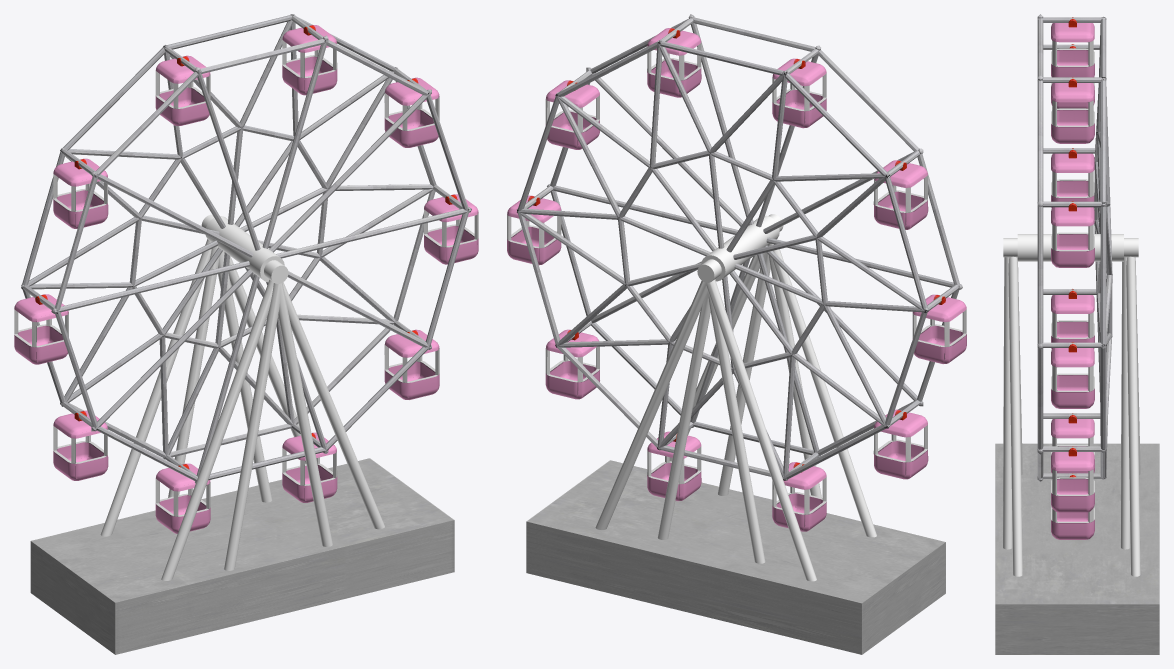
Rendered from Ferris_new.fbx.
3 views of the same model, side by side, from view 1: azimuth 30°, elevation 25°; view 2: azimuth 150°, elevation 25°; view 3: azimuth 270°, elevation 25° (orthographic). The views are drawn at different scales.
Visible parts, largest first — view 1: Wheel, Stand, Carridge, pasted__pasted__pCylinder3, pasted__pasted__pasted__pasted__pCylinder3, pasted__pCylinder3 (×2), pasted__pasted__pasted__pCylinder3; view 2: Stand, Wheel, Carridge, pasted__pCylinder3 (×2), pasted__pasted__pasted__pCylinder3, pasted__pasted__pCylinder3, pasted__pasted__pasted__pasted__pCylinder3; view 3: Stand, Carridge, Wheel, pasted__pCylinder3 (×2), pasted__pasted__pCylinder3, pasted__pasted__pasted__pasted__pCylinder3, pasted__pasted__pasted__pCylinder3, pCylinder3.
Part boxes in pixels (<box>): Wheel: <box>21,14,471,483</box>; Stand: <box>30,458,454,654</box>; Carridge: <box>14,25,478,533</box>; pasted__pasted__pCylinder3: <box>161,279,384,580</box>; pasted__pasted__pasted__pasted__pCylinder3: <box>224,283,332,570</box>; pasted__pCylinder3 (×2): <box>100,216,306,536</box>; pasted__pasted__pasted__pCylinder3: <box>168,246,272,502</box>; Stand: <box>526,460,945,654</box>; Wheel: <box>517,14,962,480</box>; Carridge: <box>507,28,966,531</box>; pasted__pCylinder3 (×2): <box>595,215,816,581</box>; pasted__pasted__pasted__pCylinder3: <box>657,279,765,563</box>; pasted__pasted__pCylinder3: <box>669,244,876,537</box>; pasted__pasted__pasted__pasted__pCylinder3: <box>718,252,821,497</box>; Stand: <box>995,443,1159,654</box>; Carridge: <box>1051,17,1094,539</box>; Wheel: <box>1037,14,1112,482</box>; pasted__pCylinder3 (×2): <box>1017,234,1140,576</box>; pasted__pasted__pCylinder3: <box>1008,256,1022,576</box>; pasted__pasted__pasted__pasted__pCylinder3: <box>1003,257,1012,549</box>; pasted__pasted__pasted__pCylinder3: <box>1120,257,1130,549</box>; pCylinder3: <box>1003,238,1138,257</box>.
Bounding box in the file's own units: 13.47 × 15.65 × 4.4.
